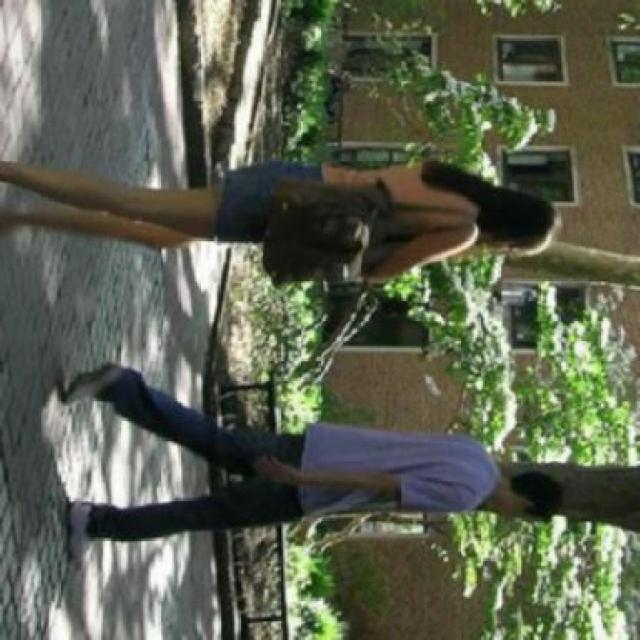Person: (54, 355, 564, 548), (0, 152, 563, 292)
